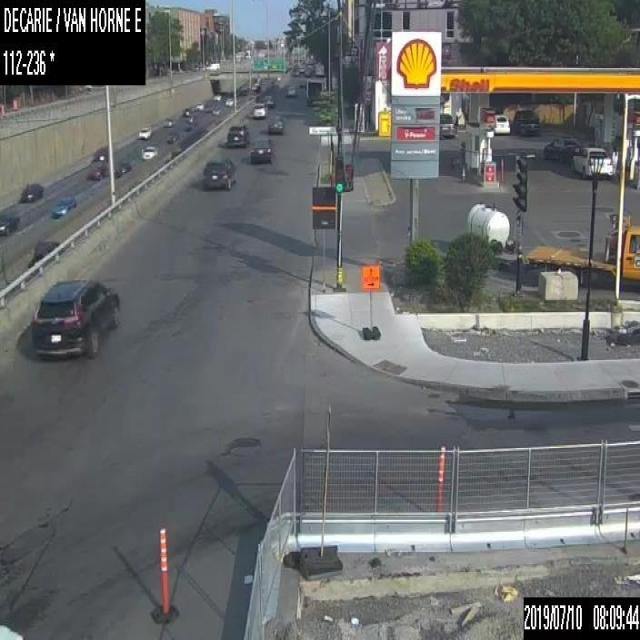construction: (242, 438, 639, 638), (150, 526, 176, 622), (361, 264, 380, 339), (434, 444, 445, 511)
pedestrian: (458, 141, 466, 180), (611, 146, 618, 180)
vehicle: (465, 201, 639, 289), (29, 279, 119, 357), (570, 147, 612, 180), (202, 156, 236, 189), (543, 136, 582, 162), (513, 109, 539, 136), (34, 239, 59, 261), (249, 137, 270, 163), (226, 122, 248, 146), (51, 195, 76, 216), (0, 212, 21, 235), (305, 78, 322, 106), (438, 112, 455, 140), (85, 160, 107, 180), (21, 183, 43, 201), (492, 113, 510, 134), (114, 161, 131, 177), (141, 144, 157, 159), (268, 119, 284, 133), (137, 125, 153, 139), (93, 146, 107, 159), (166, 130, 181, 142), (253, 103, 265, 116), (264, 94, 275, 106), (314, 63, 324, 76), (286, 84, 296, 96), (181, 105, 191, 116), (212, 103, 221, 114), (224, 97, 233, 107), (162, 118, 172, 126), (195, 102, 203, 110), (212, 93, 220, 99), (298, 64, 304, 71)
